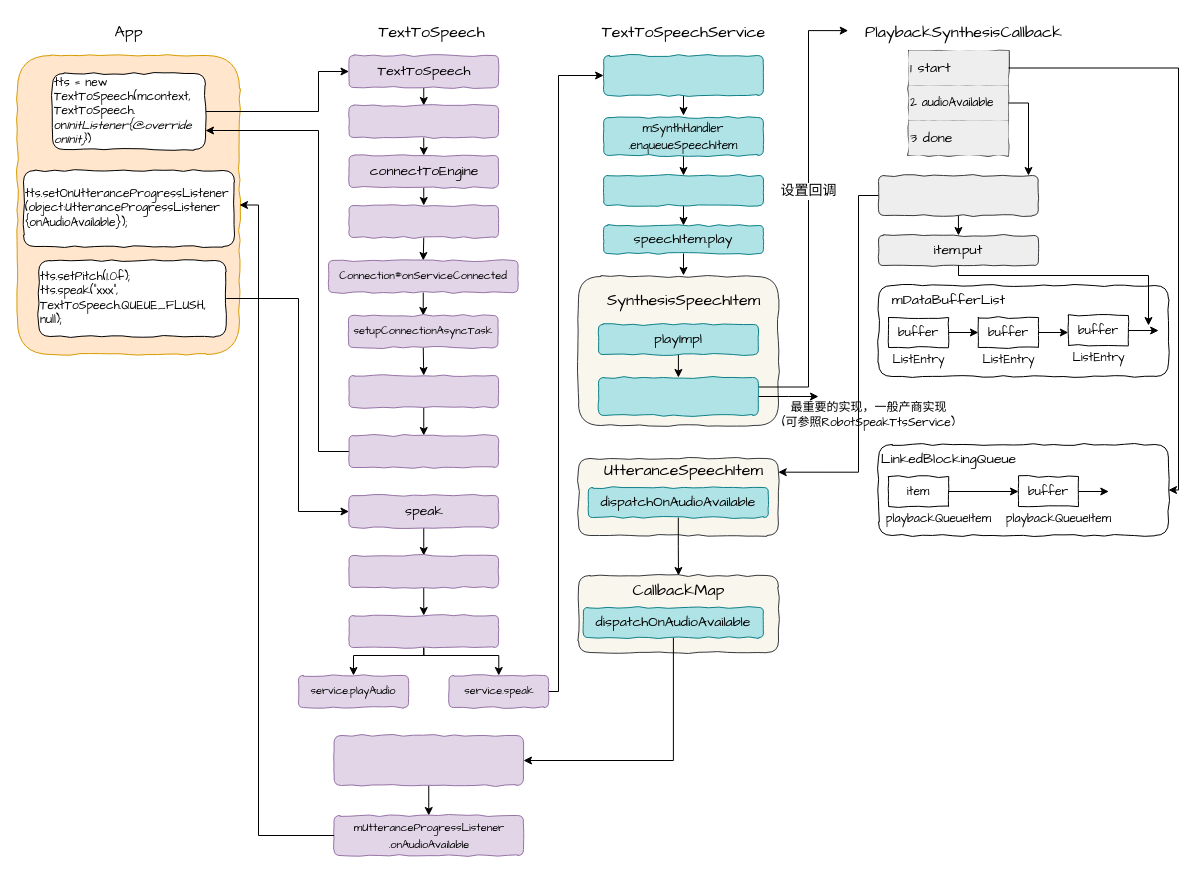
This 1204x873 diagram has some shape labels left out. Here are the shapes that lost their labels. From the top down, the centre of each, then its label:
At point (683, 75): "new ITextToSpeechService .stub(){@speak}".
At point (423, 121): "initTts".
At point (683, 190): "sendMessage".
At point (958, 195): "mDispatcher .dispatchOnAudioAvailable".
At point (423, 221): "mContext.bindService".
At point (423, 391): "dispatchOnInit".
At point (678, 396): "TextToSpeechService.this .onSynthesizeText".
At point (423, 451): "mInitListener.onInit".
At point (423, 571): "runAction".
At point (423, 631): "action.run".
At point (428, 760): "new ITextToSpeechCallback.stub(){@onAudioAvailable}".
